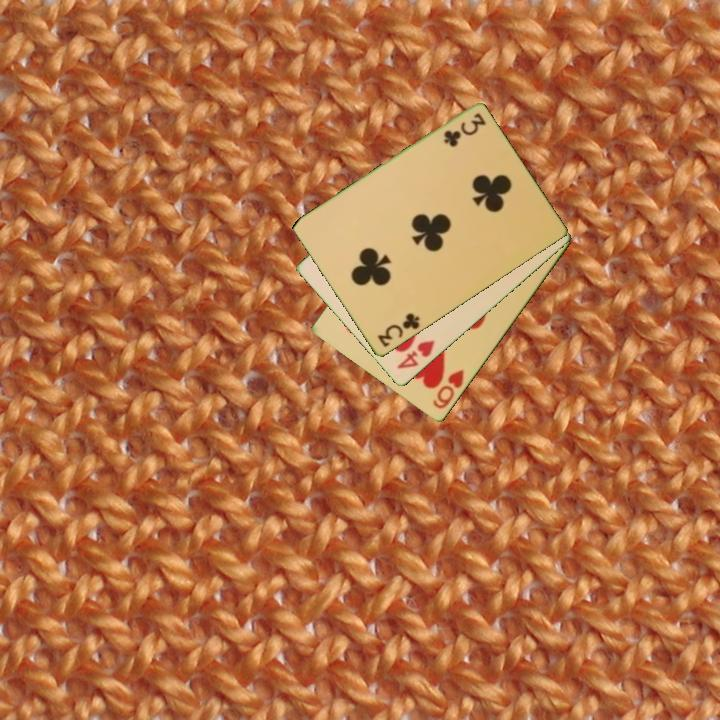3c: (374, 310, 423, 351), (440, 110, 488, 149)
4h: (393, 337, 438, 373)
6h: (429, 366, 467, 412)
